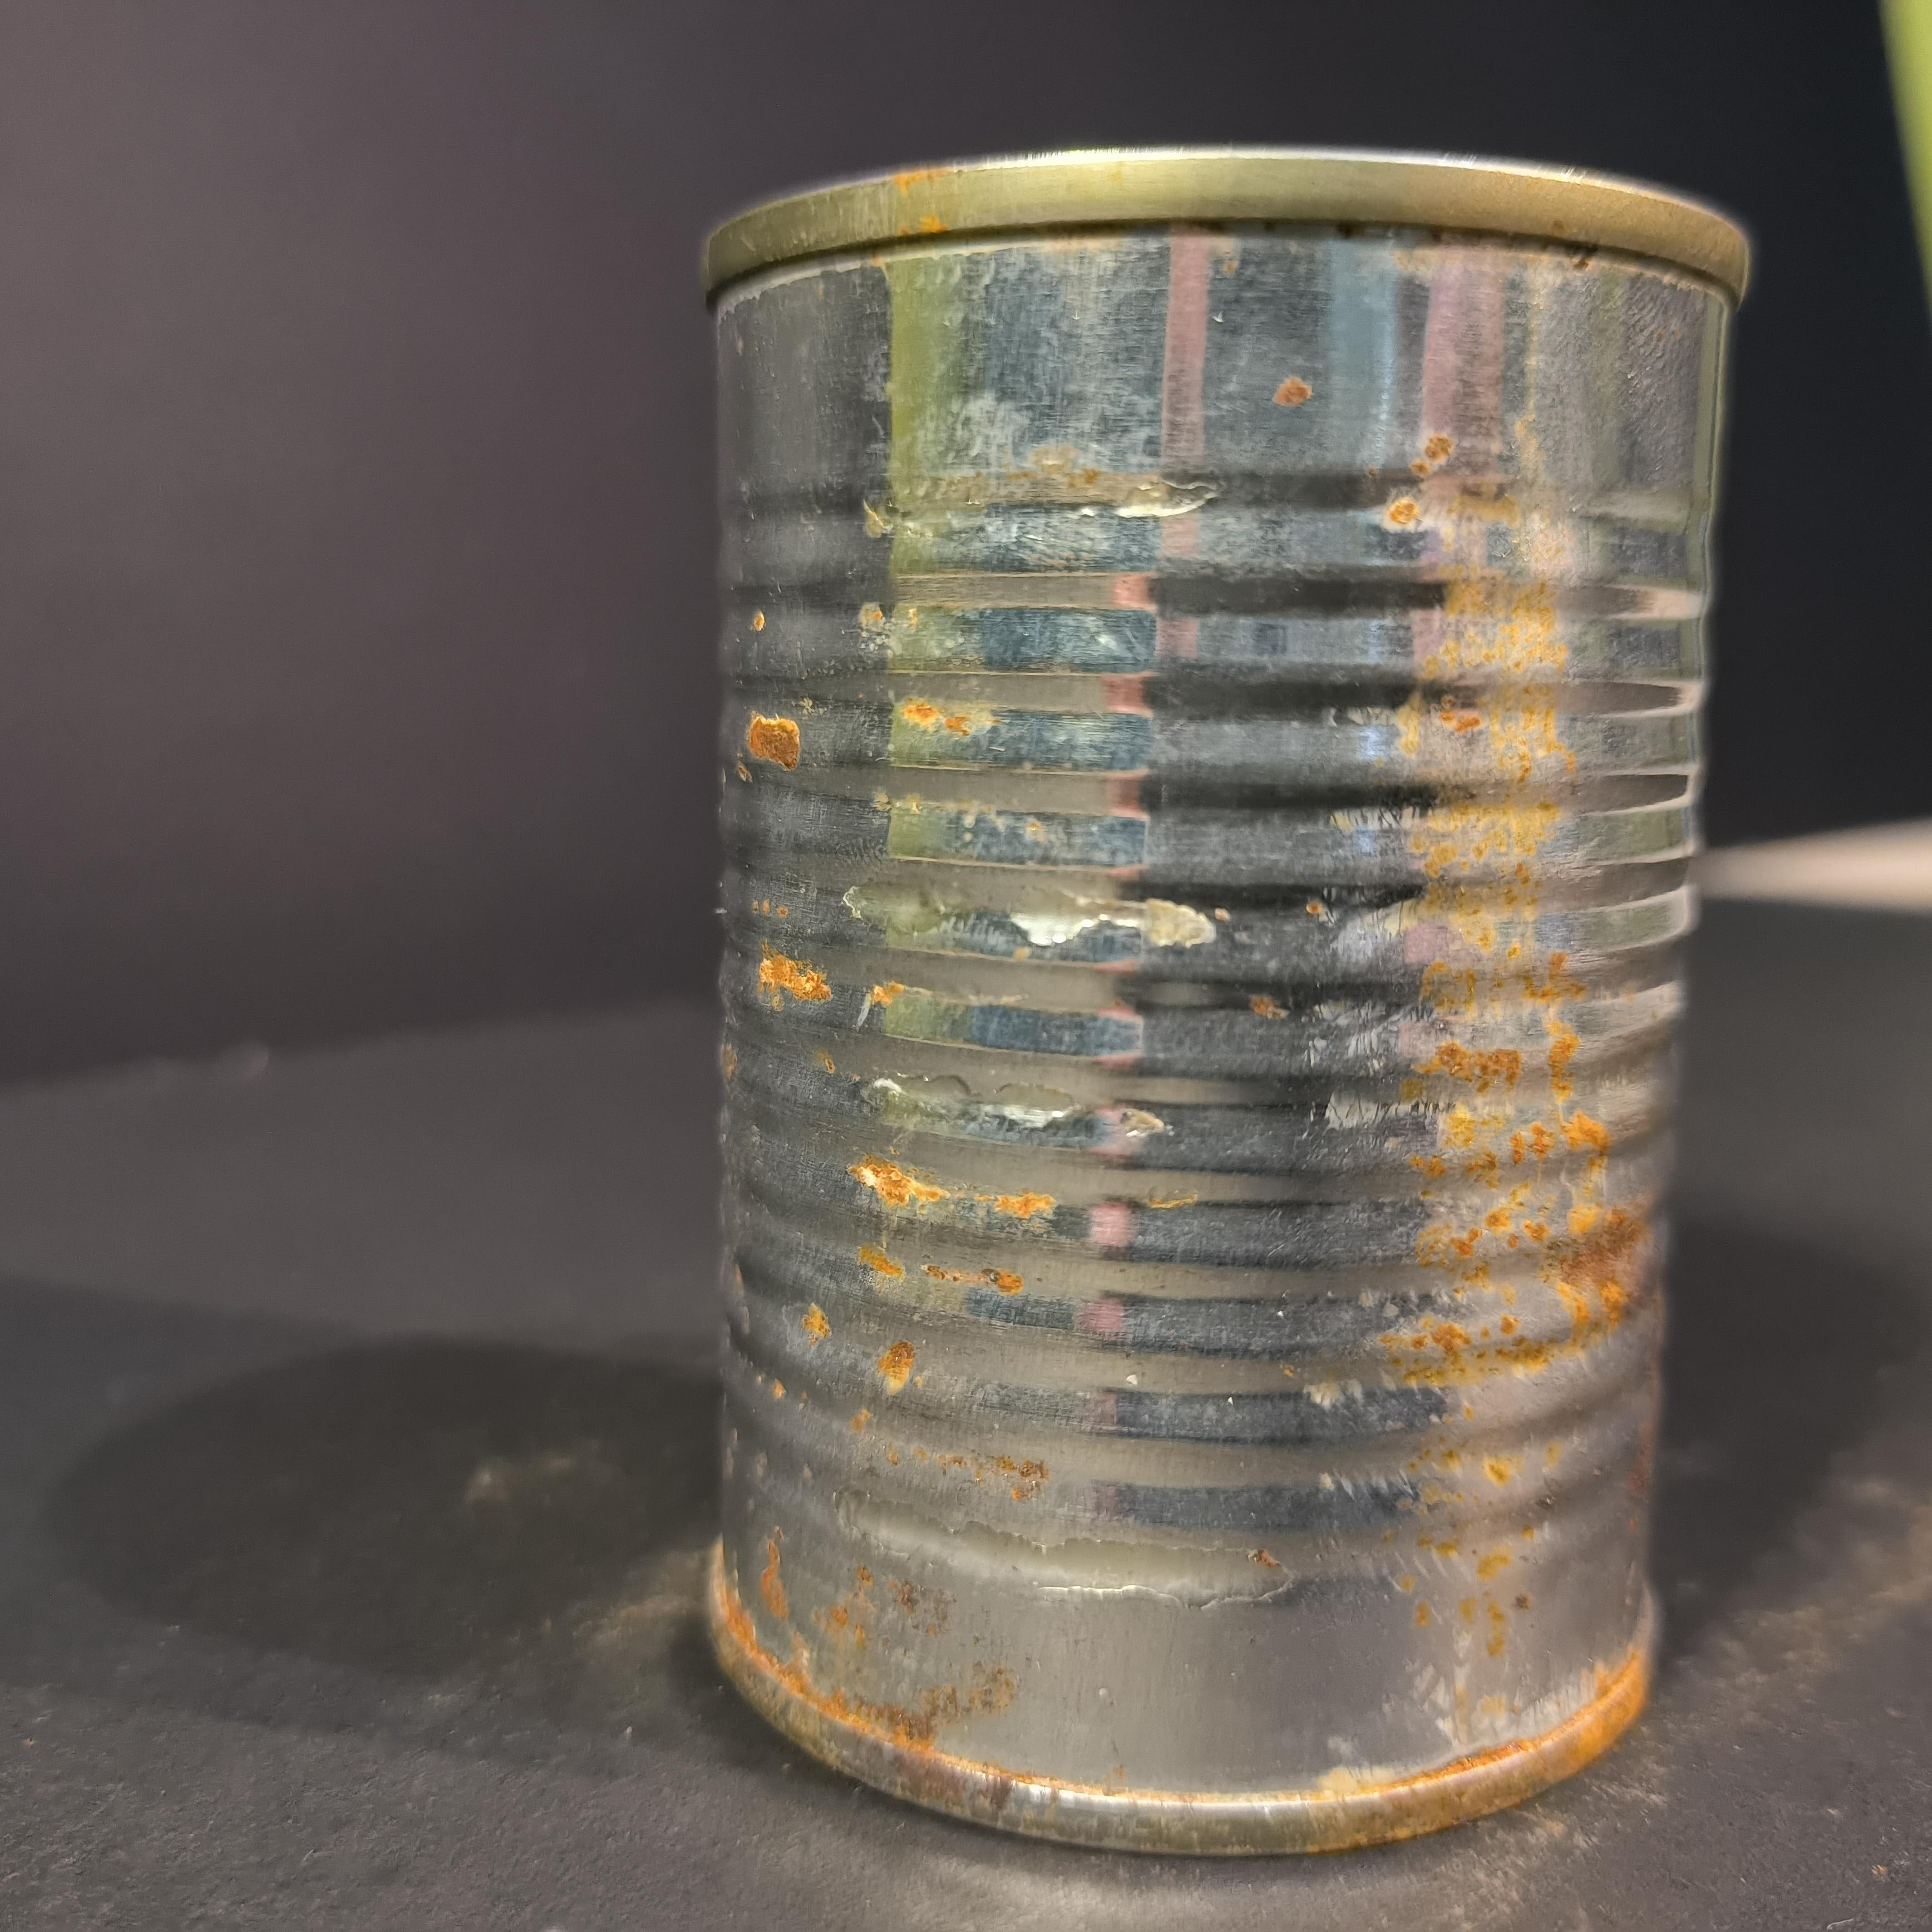Rusted: (676, 113, 1734, 1884)
